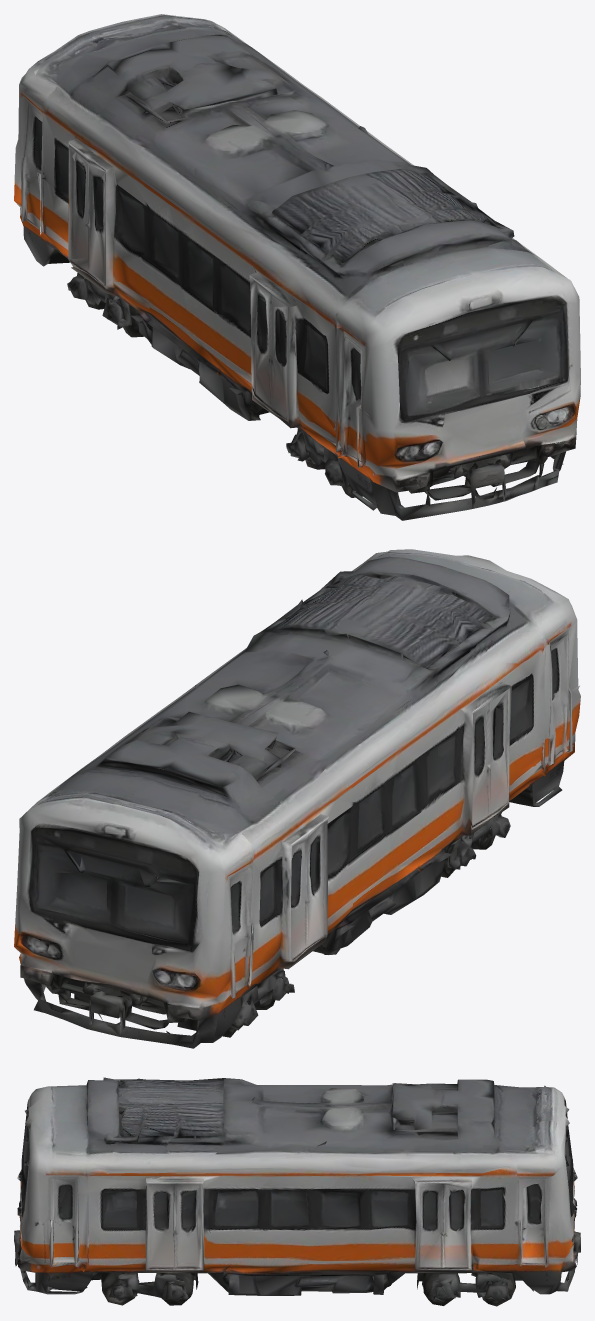
Rendered from commuter_train.glb.
3 views of the same model, one above another, from view 1: azimuth 30°, elevation 25°; view 2: azimuth 150°, elevation 25°; view 3: azimuth 270°, elevation 25° (orthographic). The views are drawn at different scales.
Parts seen in each view (by area): view 1: tripo_node_33094631-1291-4d5c-83ee-b8dcfdfd0e7b; view 2: tripo_node_33094631-1291-4d5c-83ee-b8dcfdfd0e7b; view 3: tripo_node_33094631-1291-4d5c-83ee-b8dcfdfd0e7b.
Part boxes in pixels (<box>): tripo_node_33094631-1291-4d5c-83ee-b8dcfdfd0e7b: <box>14,14,580,520</box>; tripo_node_33094631-1291-4d5c-83ee-b8dcfdfd0e7b: <box>14,549,580,1048</box>; tripo_node_33094631-1291-4d5c-83ee-b8dcfdfd0e7b: <box>14,1077,580,1306</box>.
Size of the model in its own units: 0.3403 by 0.3653 by 0.9934.
Materials: 1 (1 with a texture image).
